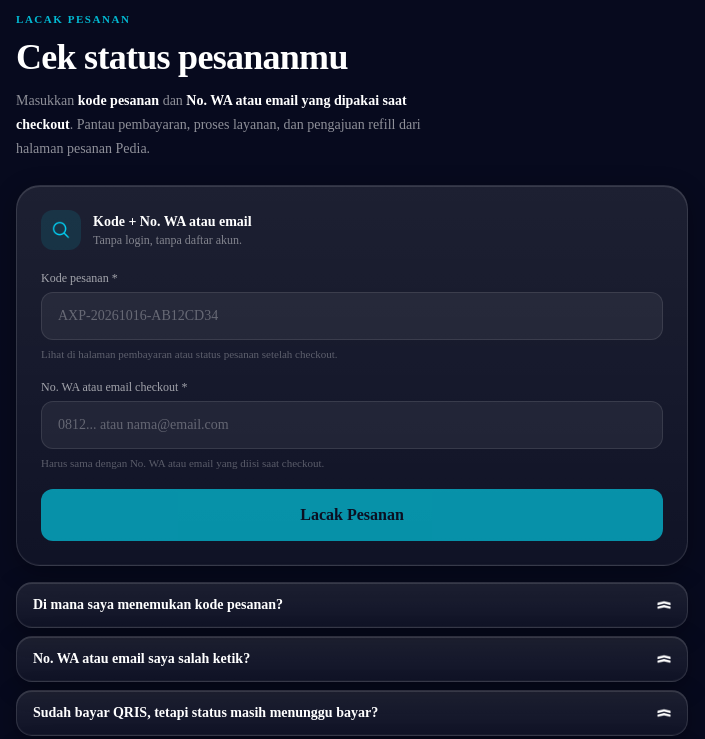
Test case: Pedia tracking › rejects a Market code and invalid contact before network requests
In the field labelled "Kode pesanan *": (352, 316) [41,292,663,340], type "AXV-20261016-AB12CD34"
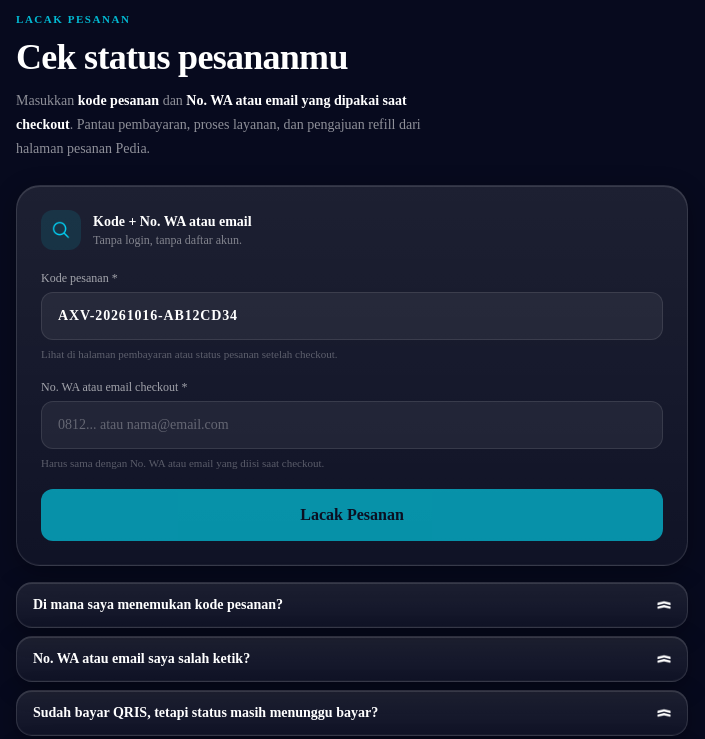
In the field labelled "No. WA atau email checkout *": (352, 425) [41,401,663,449], type "invalid"
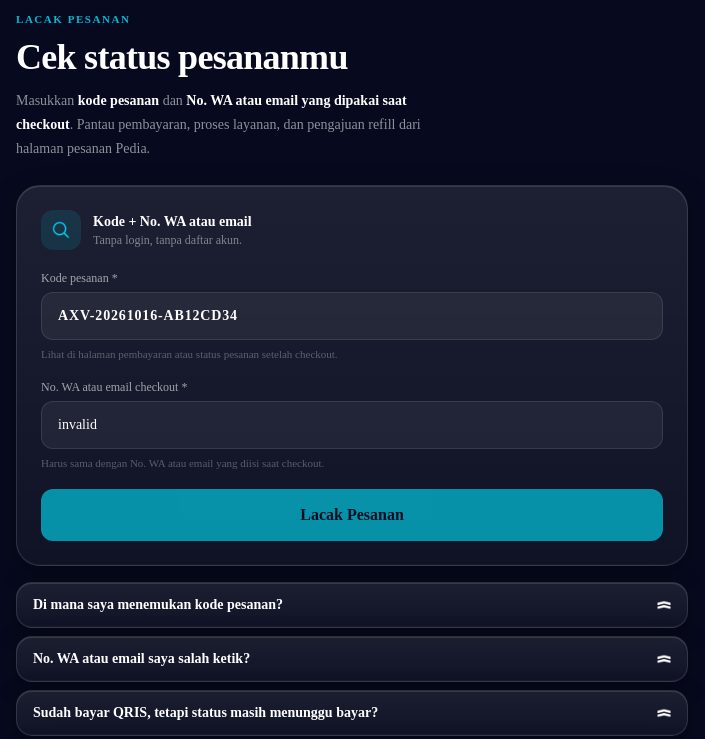
Submit the form named "Formulir lacak pesanan", box [16,185,688,566]
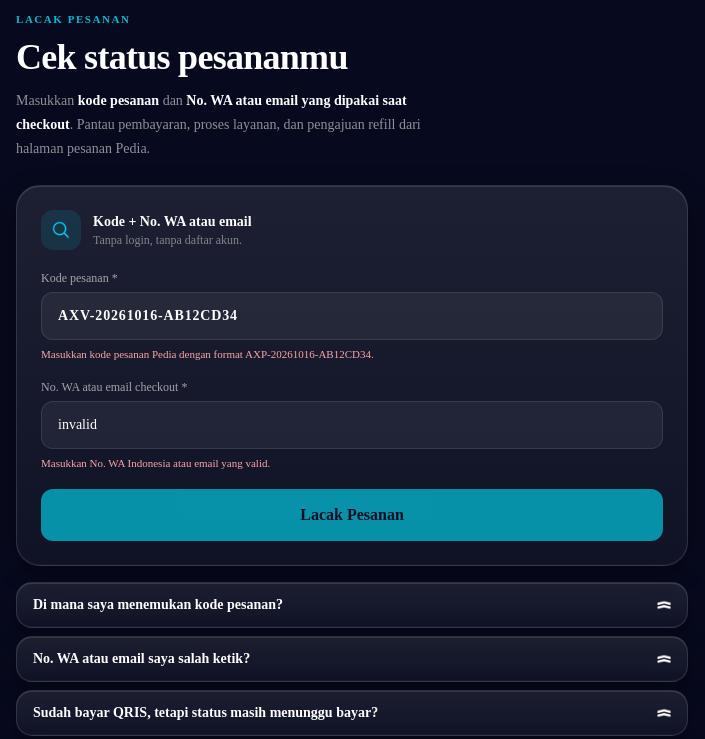
Replace the text in the field labelled "Kode pesanan *" with "AXP-20261016-AB12CD34": (352, 316) [41,292,663,340]
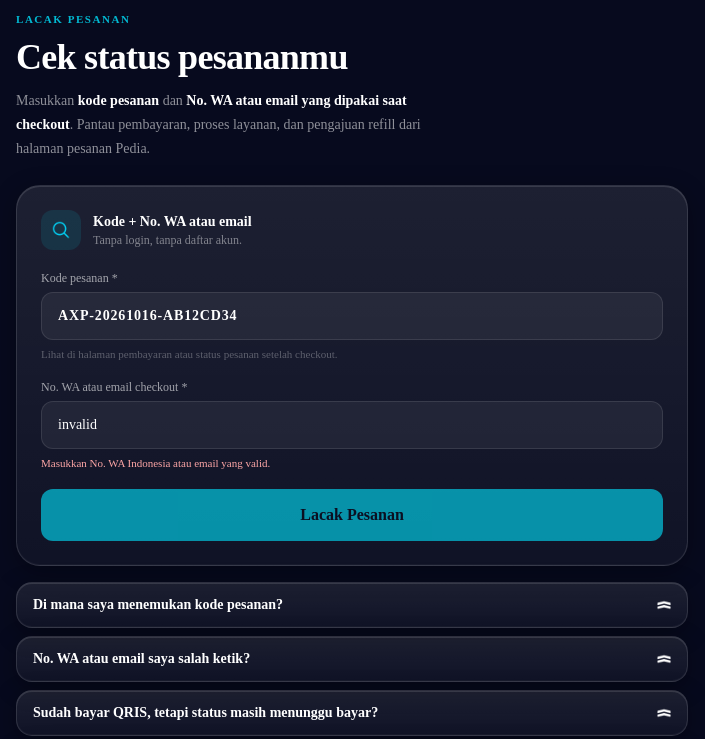
Replace the text in the field labelled "No. WA atau email checkout *" with "0812 3456-7890": (352, 425) [41,401,663,449]
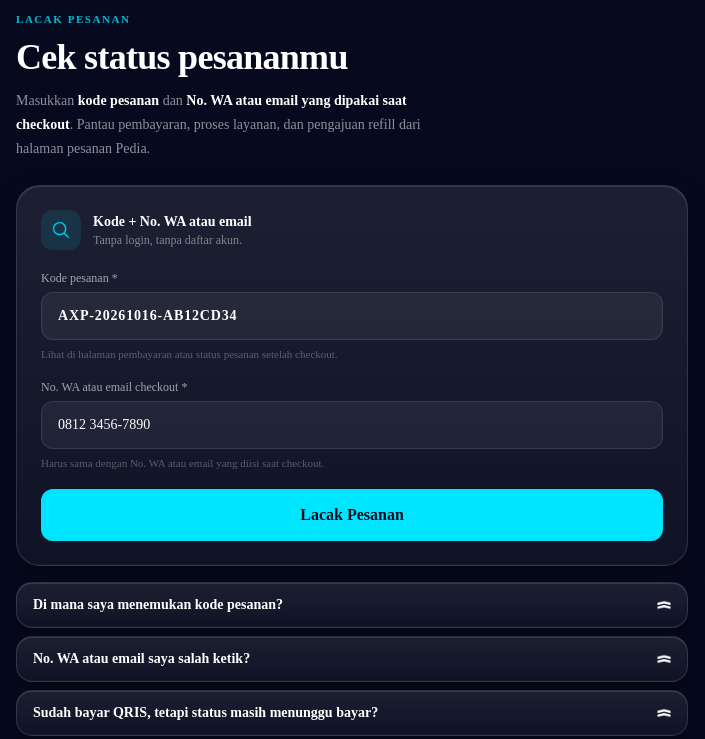
Result: the button "Lacak Pesanan" is enabled at [41,489,663,541]
